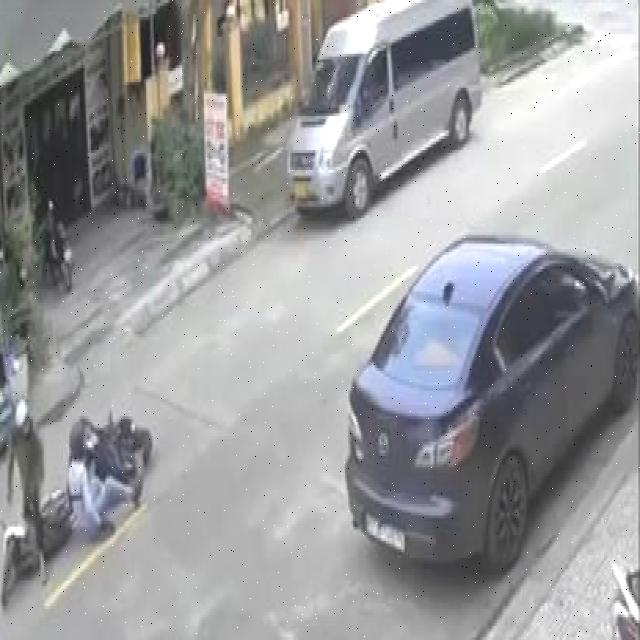accident: (0, 377, 157, 615)
